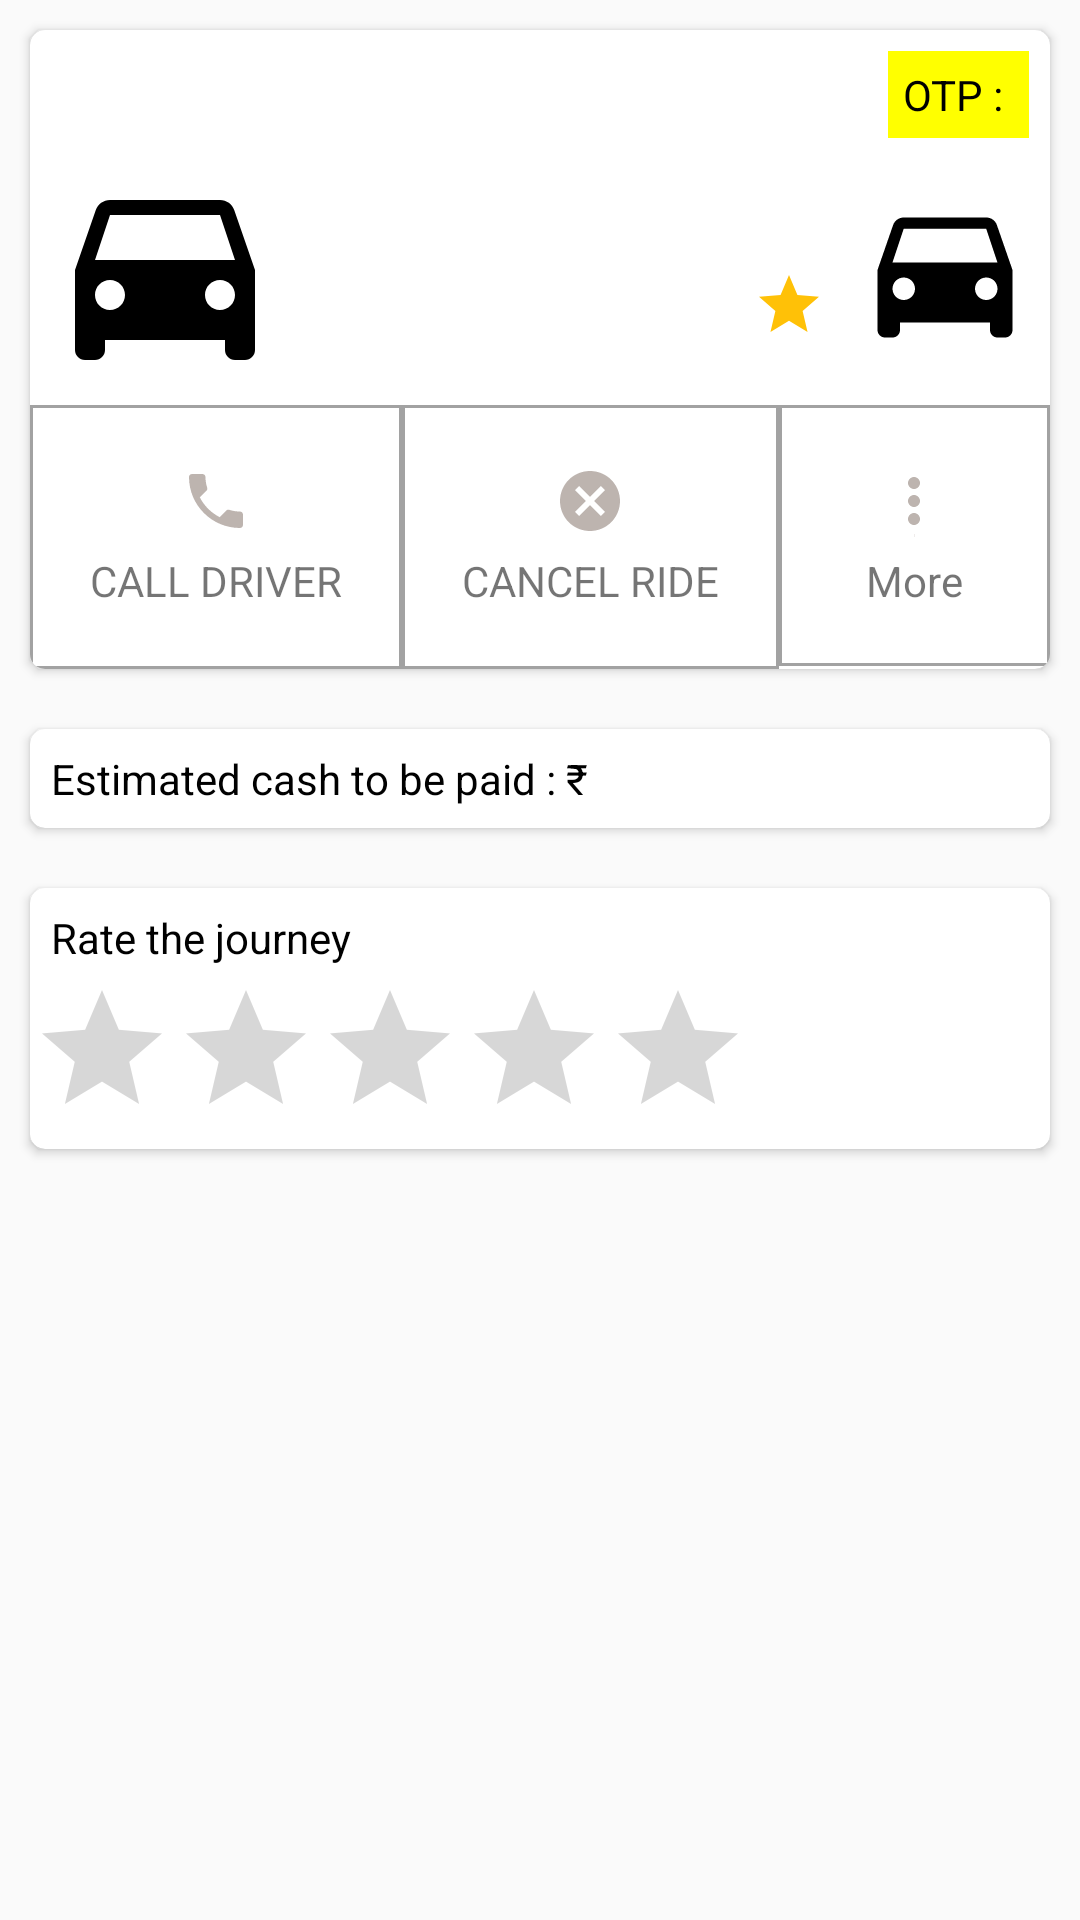

Point at icon controls on the screen. Image size 1080 x 1920, points as [x,y].
directions car: [165,280], [945,277]
